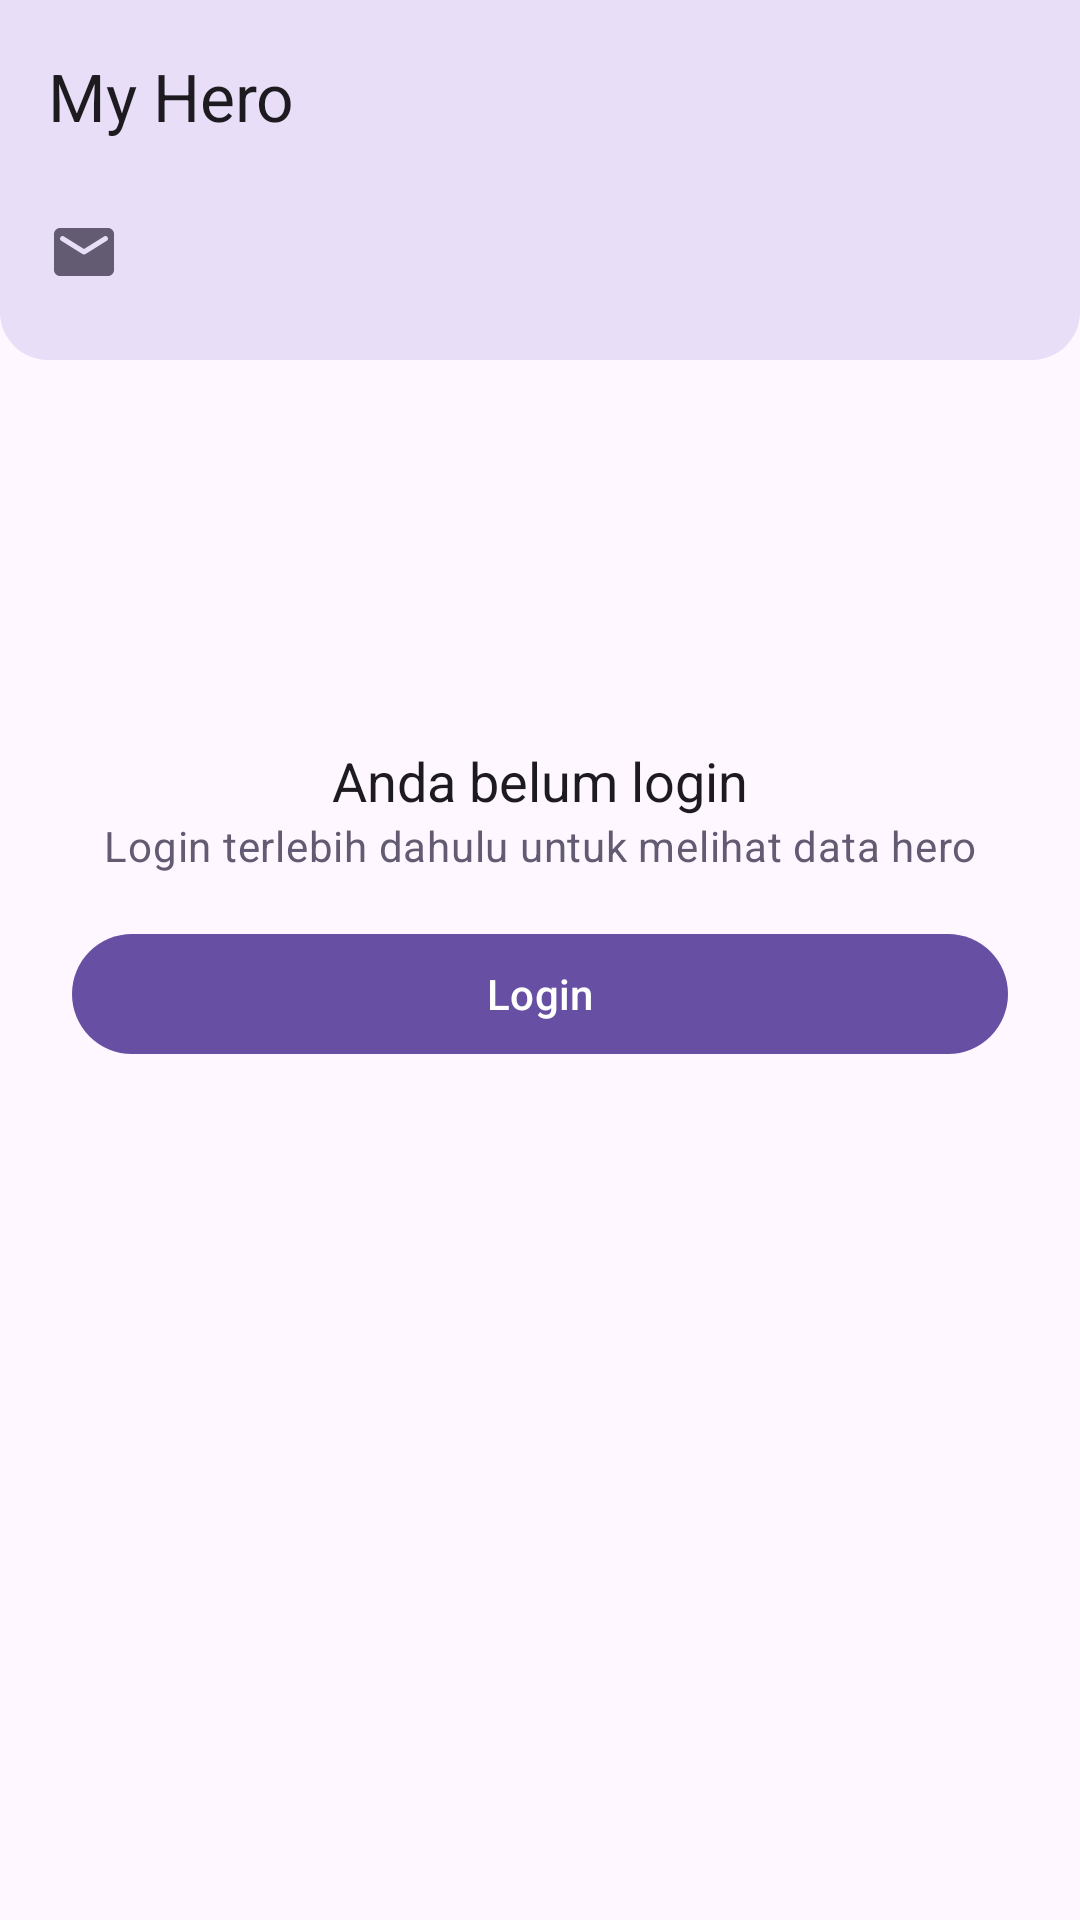

Screen size 1080x1920. Icon name, then its center in pixels as point (x, y):
email: point (84, 252)
